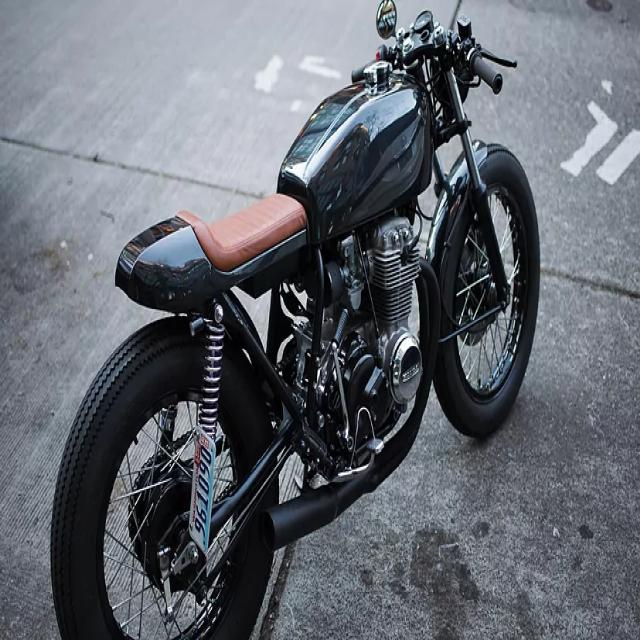MOTORCYCLE: (55, 59, 560, 624)
